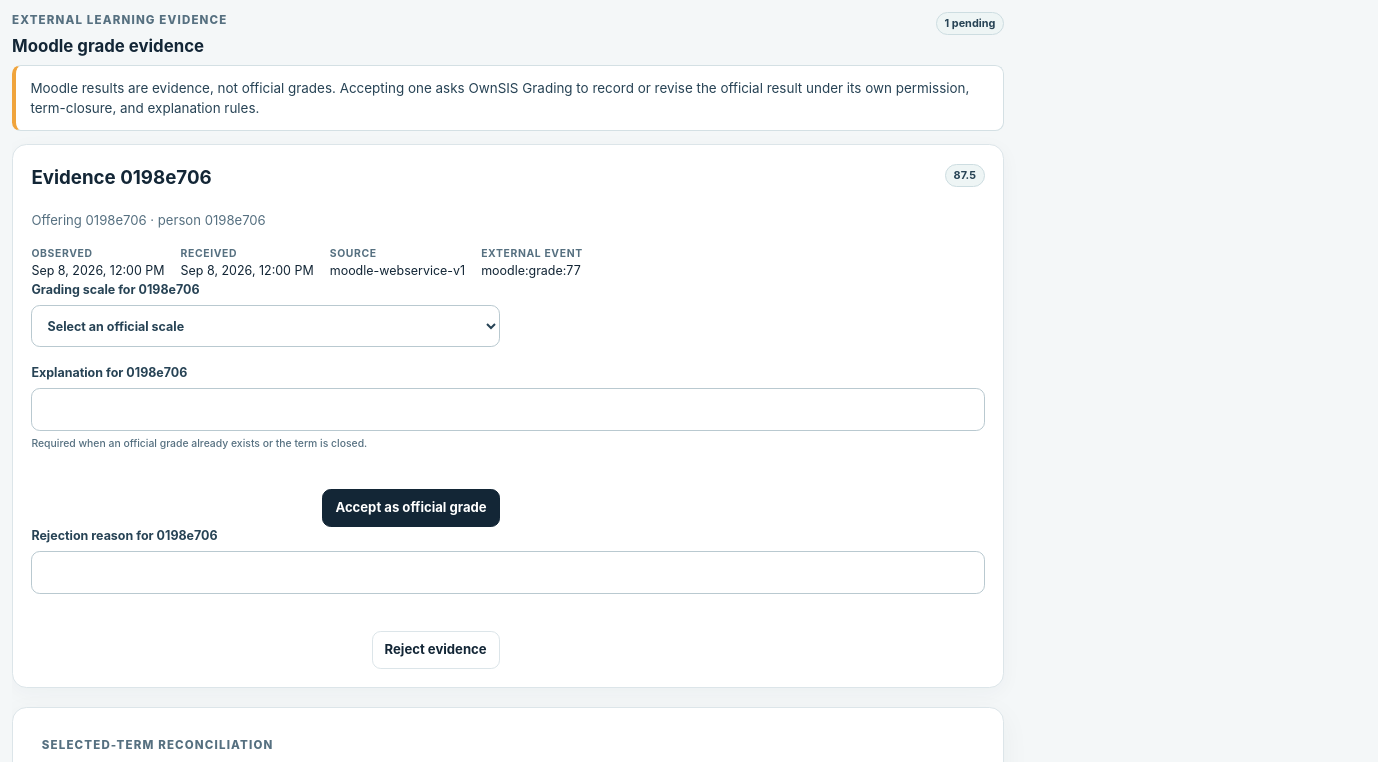
Scenario: GradeEvidenceReview › requires a reason before rejecting evidence
Click the button "Reject evidence" at (436, 650), box [372,631,500,669]
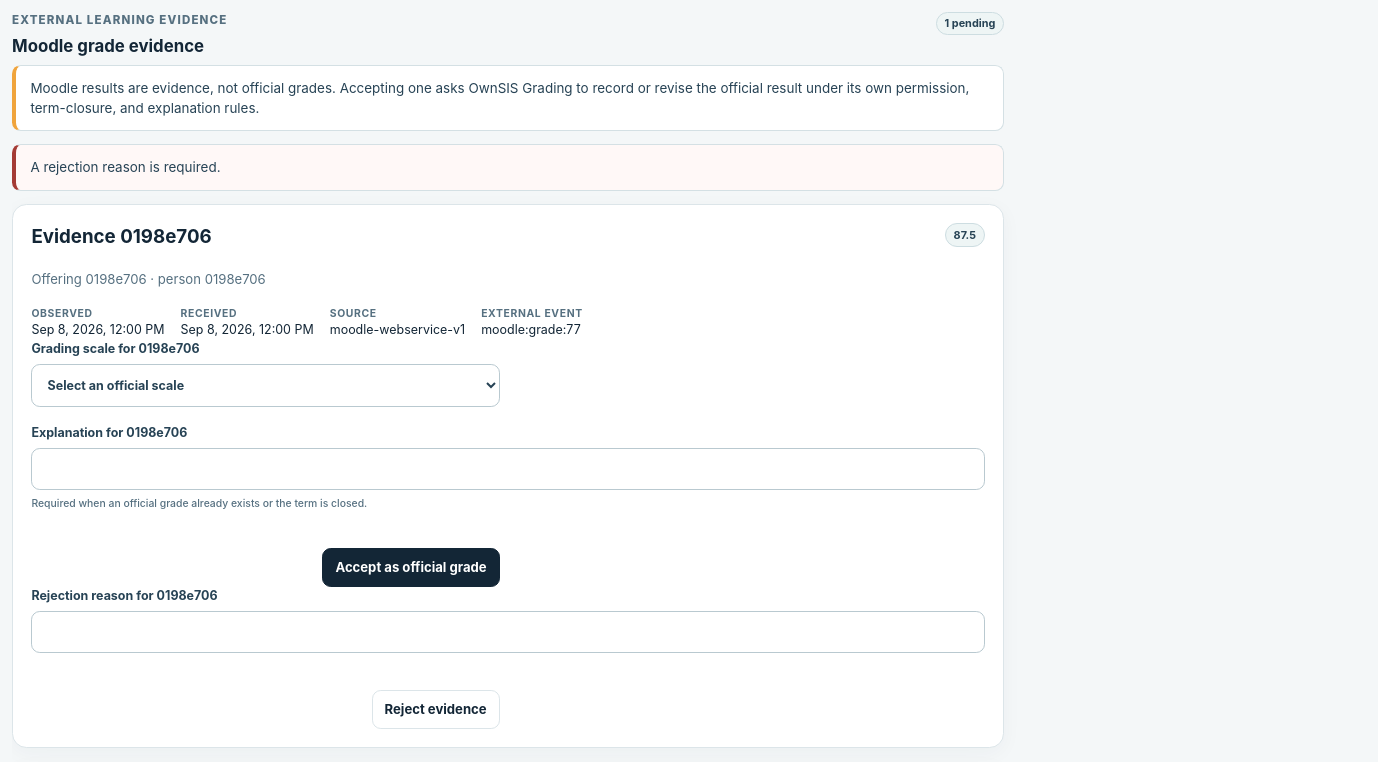
Now the message reads "A rejection reason is required.", box [30,159,220,175]
